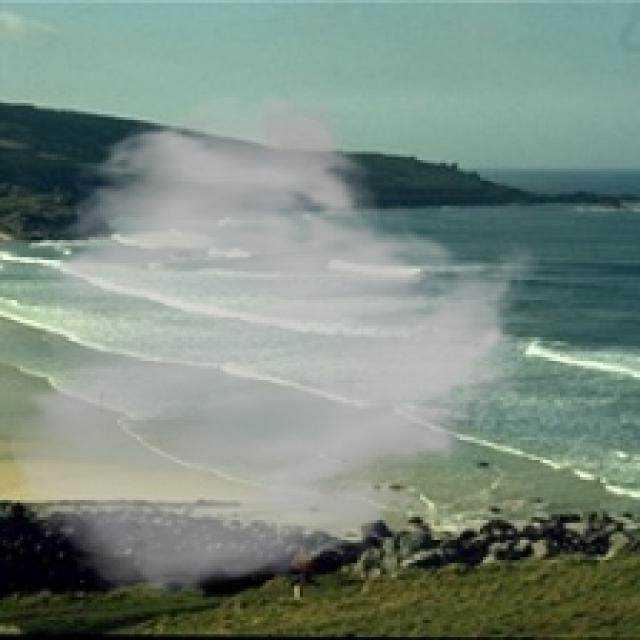Smoke: (6, 88, 543, 603)
